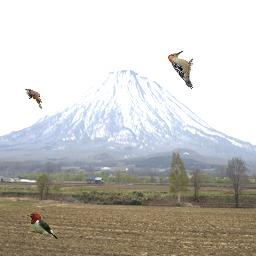Cuckoo: (25, 89, 42, 109)
Woodpecker: (168, 50, 193, 90), (25, 213, 58, 239)
